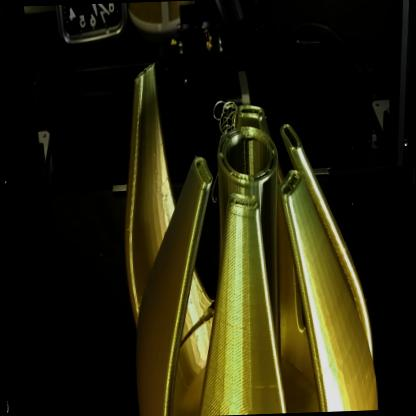fail: (214, 95, 239, 135)
